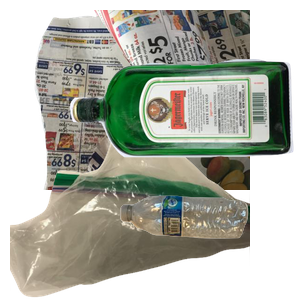glass: (67, 56, 300, 206)
paper: (32, 10, 272, 190)
plastic: (118, 193, 300, 300)
trash: (10, 134, 250, 300)
